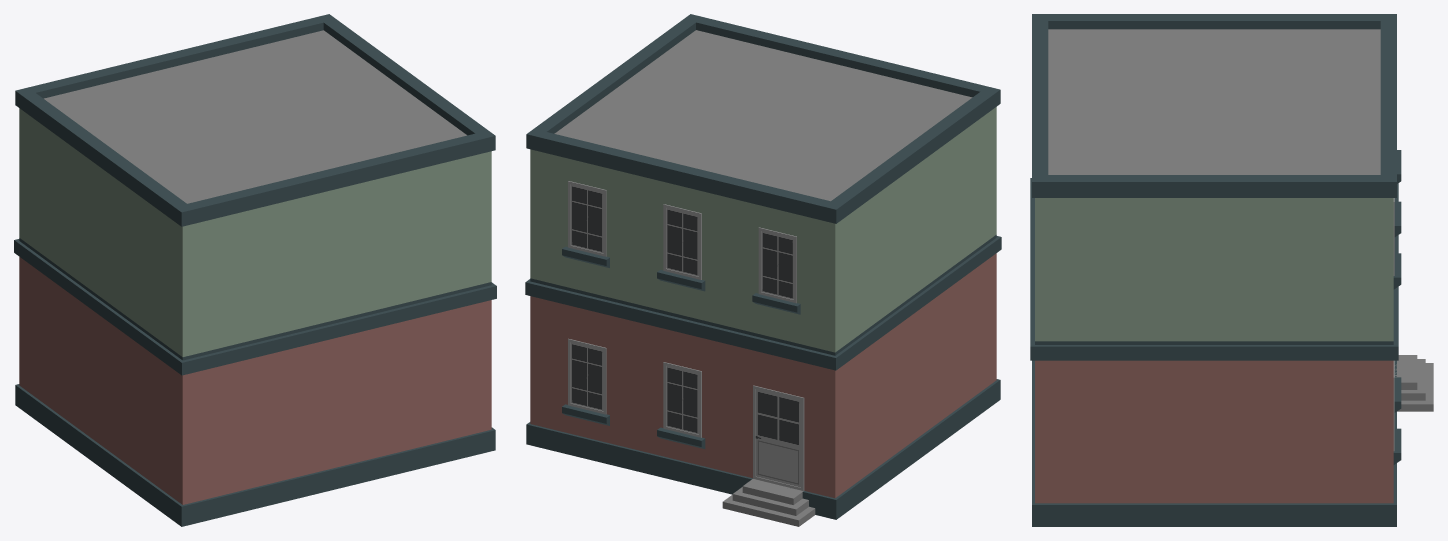
The model's file is spw-urban-bldg-shop-02.glb.
3 views of the same model, side by side, from view 1: azimuth 30°, elevation 25°; view 2: azimuth 150°, elevation 25°; view 3: azimuth 270°, elevation 25° (orthographic). The views are drawn at different scales.
Visible parts, largest first — view 1: SPW_Urban_Bldg_Shop_02; view 2: SPW_Urban_Bldg_Shop_02; view 3: SPW_Urban_Bldg_Shop_02.
Boxes of the visible parts, x1,y1,x2,y2 form: SPW_Urban_Bldg_Shop_02: (14, 14, 496, 526); SPW_Urban_Bldg_Shop_02: (525, 14, 1001, 526); SPW_Urban_Bldg_Shop_02: (1030, 14, 1433, 526).
Bounding box in the file's own units: 10.4 × 9.92 × 10.52.
1 material, 1 textured.
